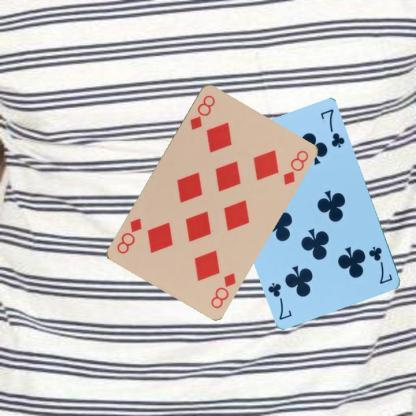7c: (366, 244, 395, 286)
8d: (187, 92, 217, 132), (208, 270, 237, 310)
